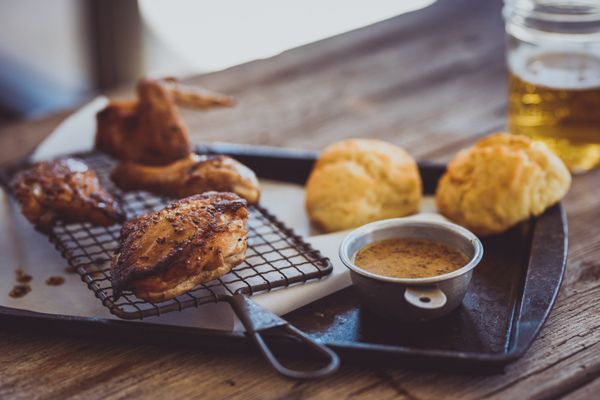sushi: (338, 213, 484, 316)
